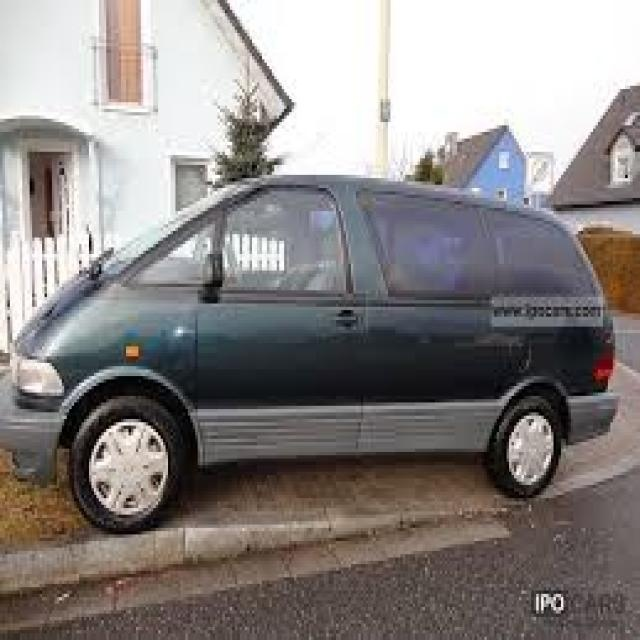Van: (8, 175, 620, 538)
